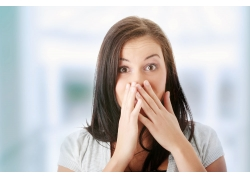face: (114, 37, 167, 114)
